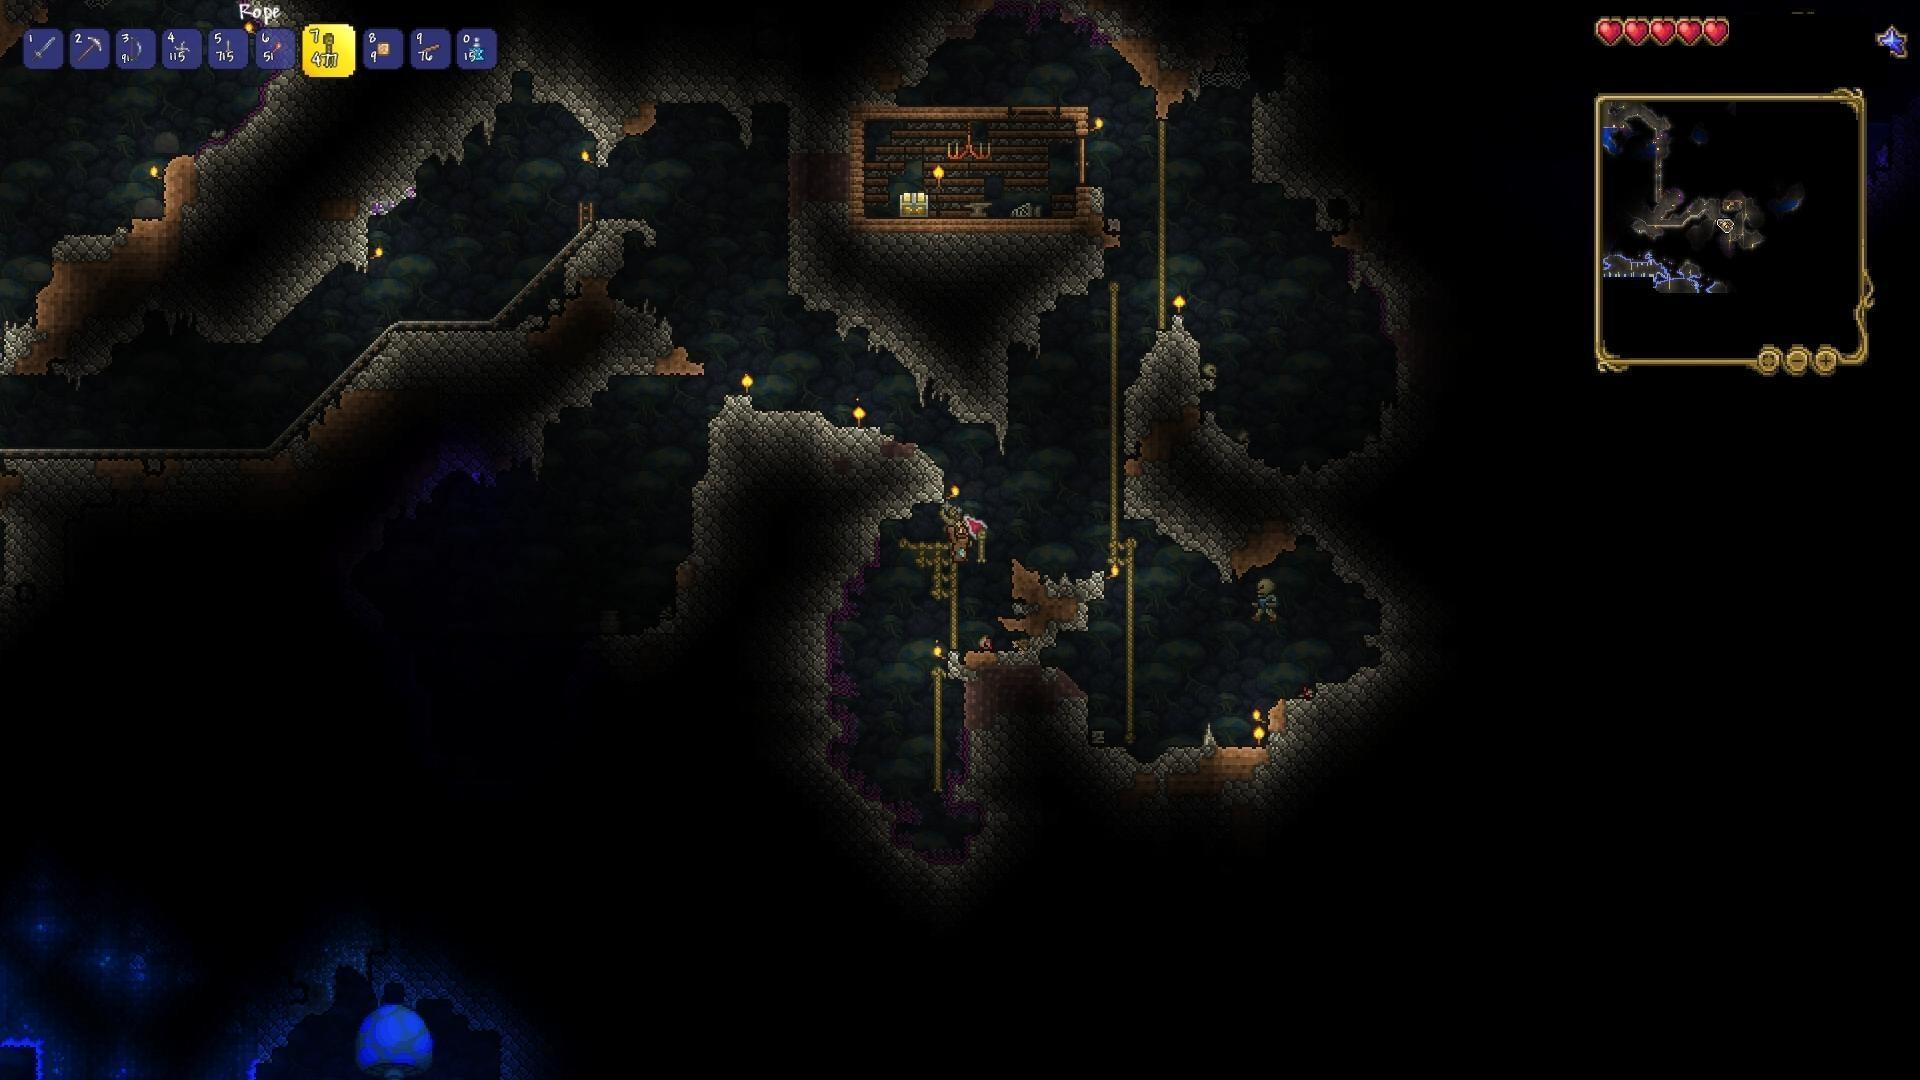heart: (1702, 17, 1733, 51), (1593, 16, 1626, 46), (1676, 15, 1704, 50), (1650, 16, 1676, 49), (1625, 15, 1651, 44)
stone: (777, 229, 1081, 397), (682, 422, 845, 617), (1126, 316, 1251, 570), (1270, 684, 1418, 865), (170, 211, 355, 331), (957, 721, 1130, 844), (182, 61, 322, 204), (740, 615, 848, 781), (1303, 467, 1427, 601), (330, 113, 502, 202), (367, 331, 529, 422), (551, 302, 679, 414), (0, 444, 95, 575), (1241, 90, 1366, 183), (537, 49, 669, 128), (841, 417, 934, 525), (556, 193, 650, 280), (29, 210, 124, 262), (1134, 742, 1208, 795), (0, 309, 45, 384)
